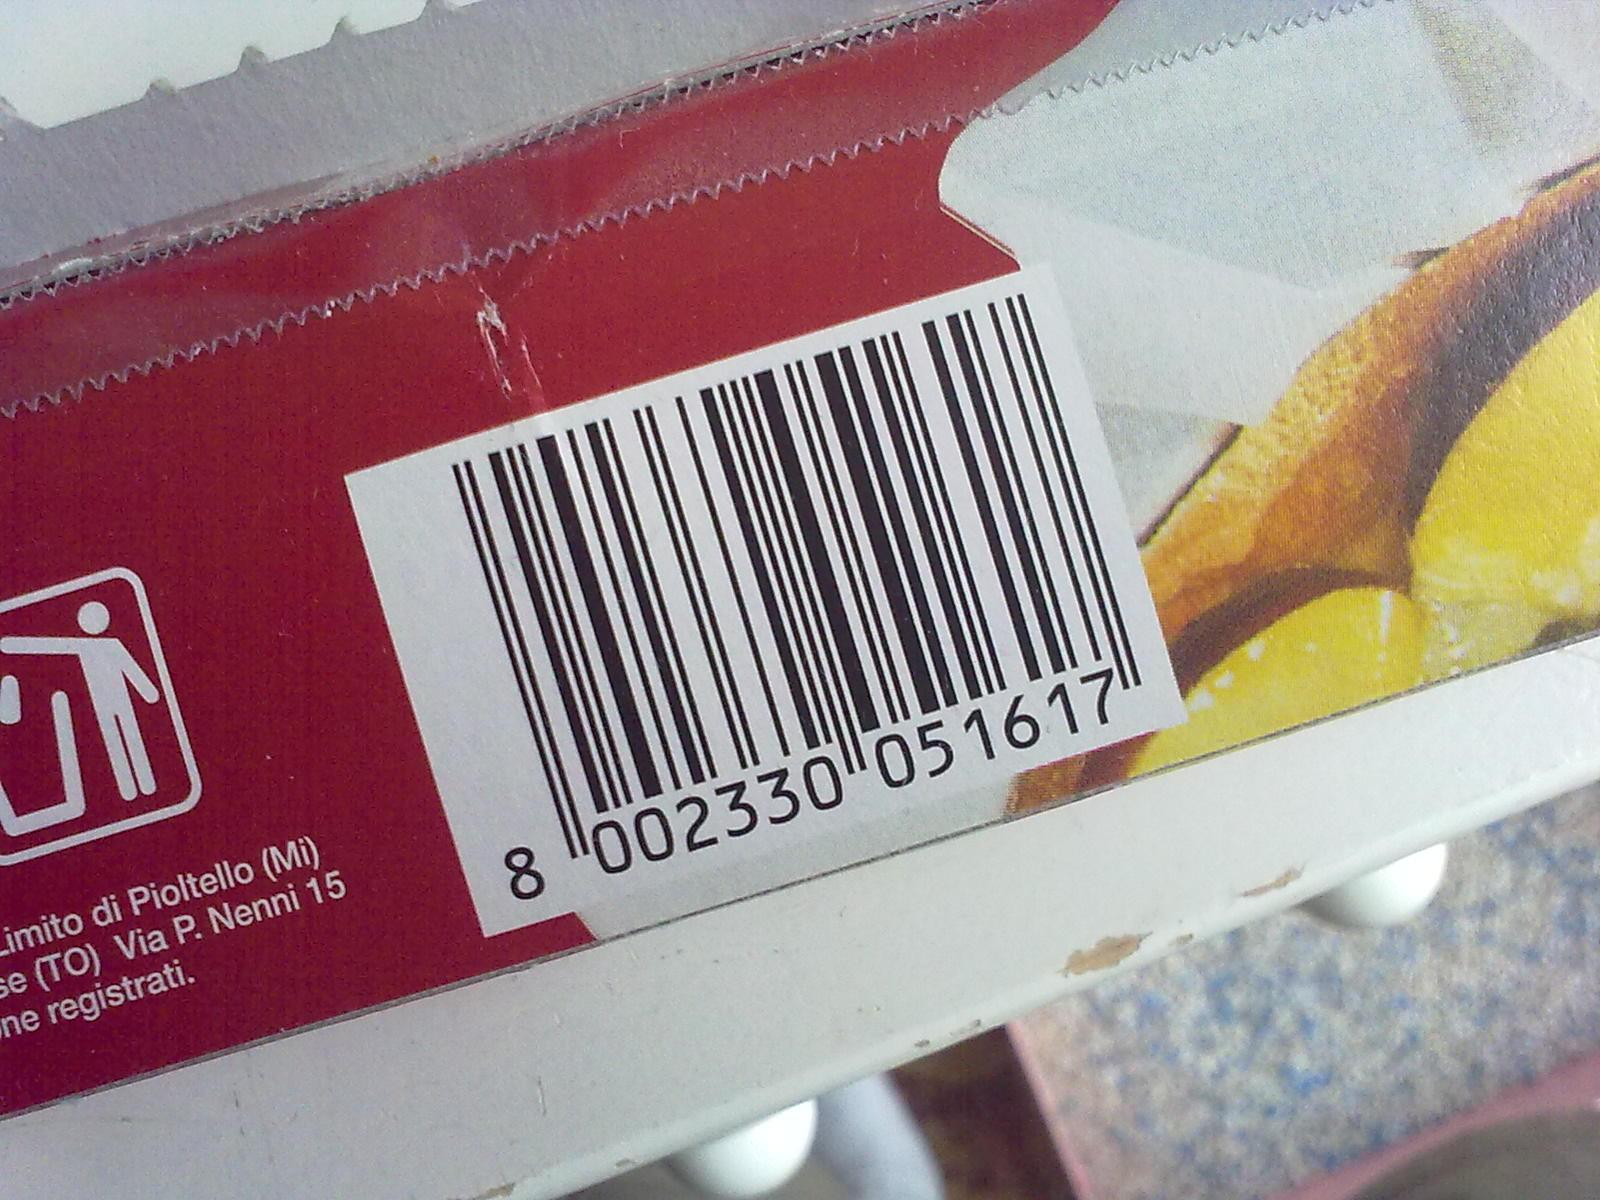barcode: (346, 262, 1191, 940)
